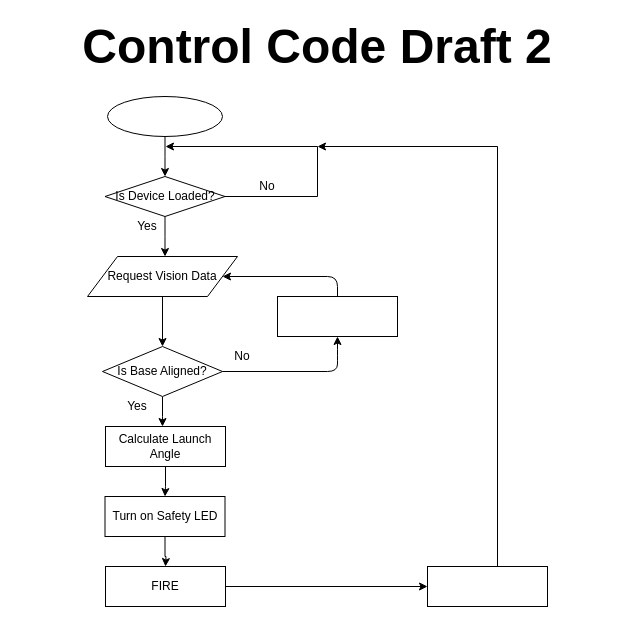
Image size: 634x632. Some labels were removed from this diagram. Here are the shapes that lost their labels. From the top down, the centre of each, then its label:
(164,116): Start Device
(337,316): Adjust Base
(487,586): Turn off Safety LED
